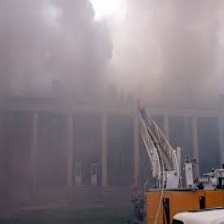smoke: (14, 4, 117, 84), (135, 6, 224, 85)
